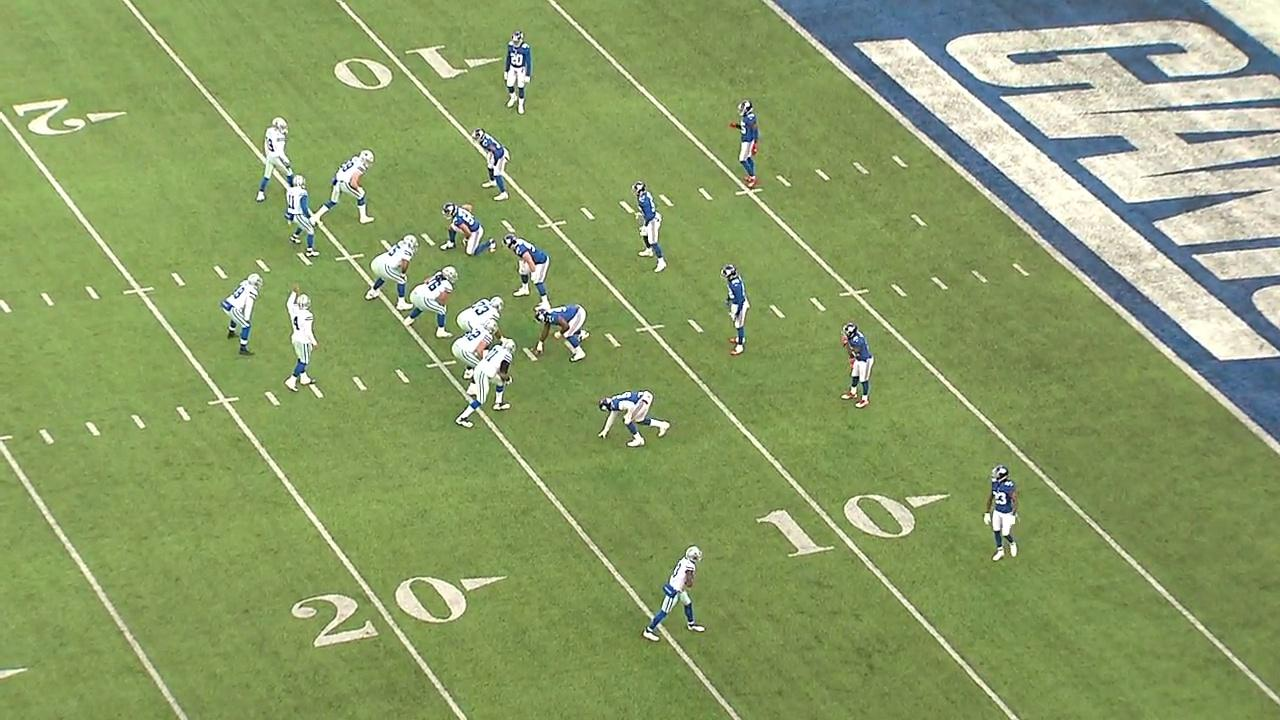player: (638, 544, 707, 644), (454, 337, 520, 431), (308, 146, 379, 228), (596, 385, 673, 452), (364, 231, 421, 314), (285, 279, 324, 394), (403, 262, 462, 338), (218, 270, 268, 358), (982, 461, 1023, 564), (502, 230, 554, 310), (450, 319, 502, 398), (252, 116, 297, 205), (531, 302, 594, 365), (629, 177, 668, 274), (439, 197, 498, 261), (281, 172, 323, 260), (838, 318, 877, 410), (726, 97, 765, 189), (470, 125, 511, 203), (718, 261, 751, 357), (500, 27, 535, 117), (455, 294, 509, 344)
